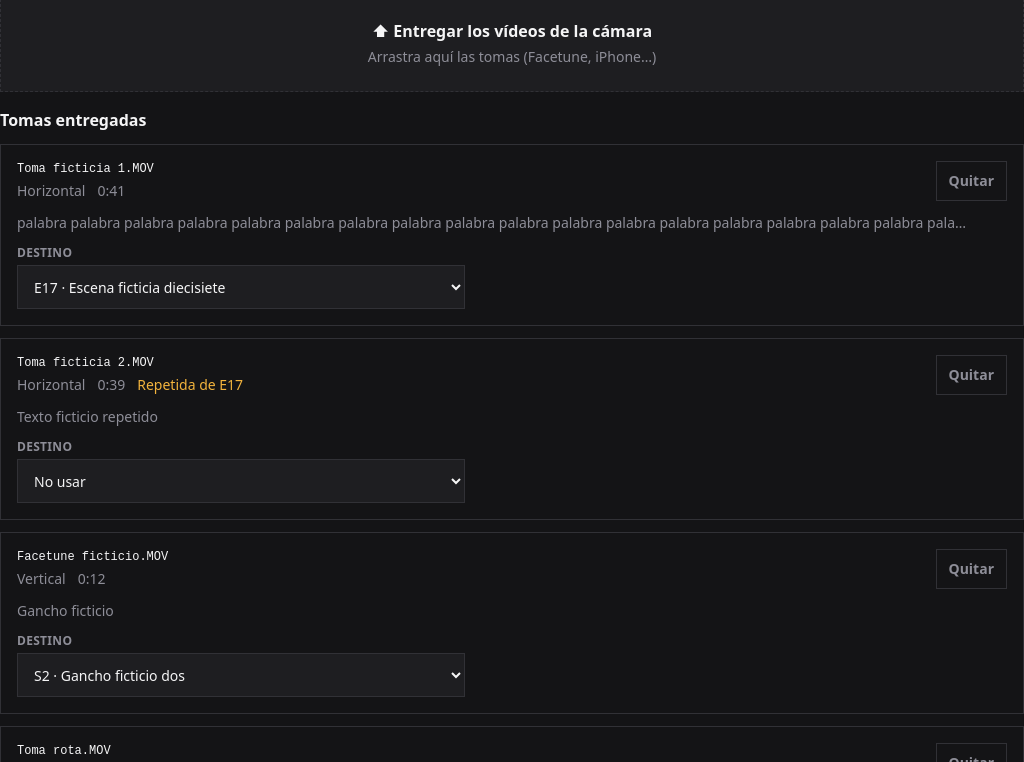
Test: EntregaTomas › coloca las tomas analizadas con su destino y avisa al terminar
Select "E08 · Escena ficticia ocho" in the dropdown named "Destino de Toma ficticia 1.MOV". click: (241, 287)
box: 17,265 -> 465,309
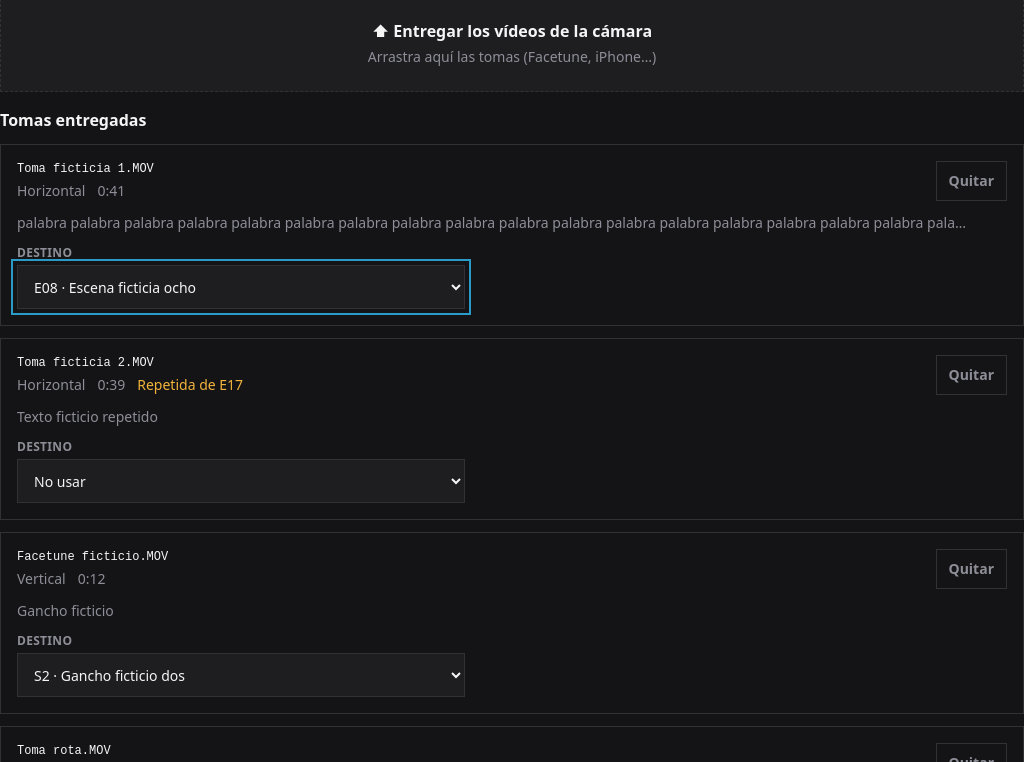
Select "No usar" in the dropdown labelled "Destino" below "Facetune ficticio.MOV". click: (241, 675)
box: 17,653 -> 465,697
(page scrolled)
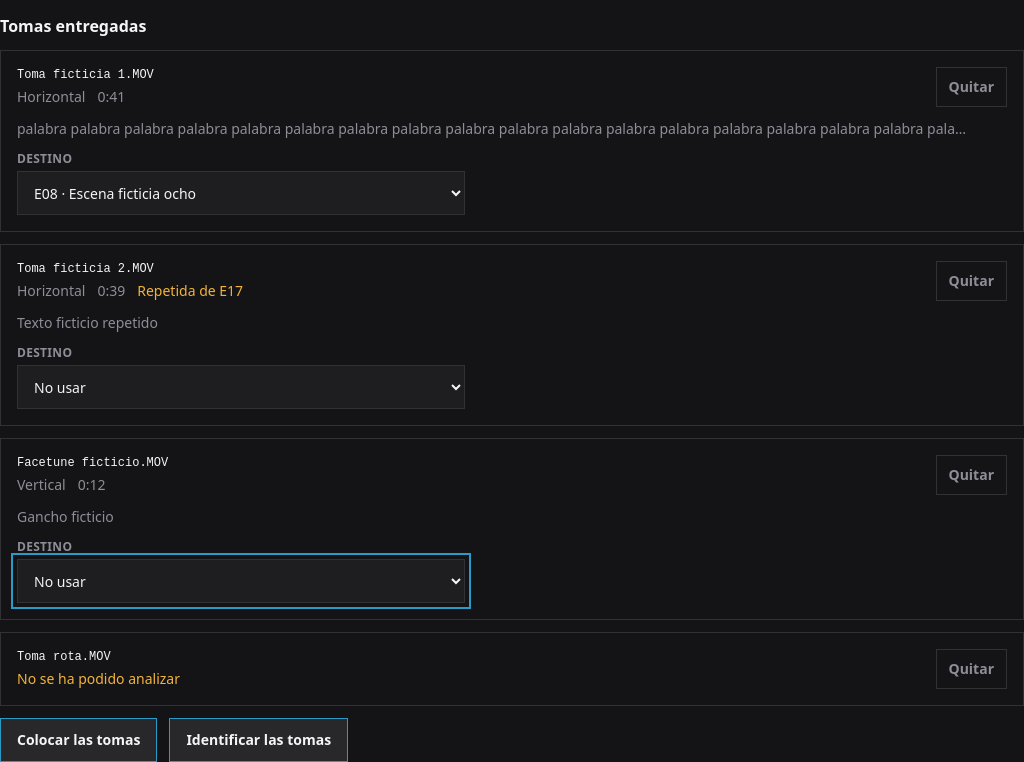
Click the button "Colocar las tomas". click: (79, 740)
box: 0,718 -> 157,761
(page scrolled)
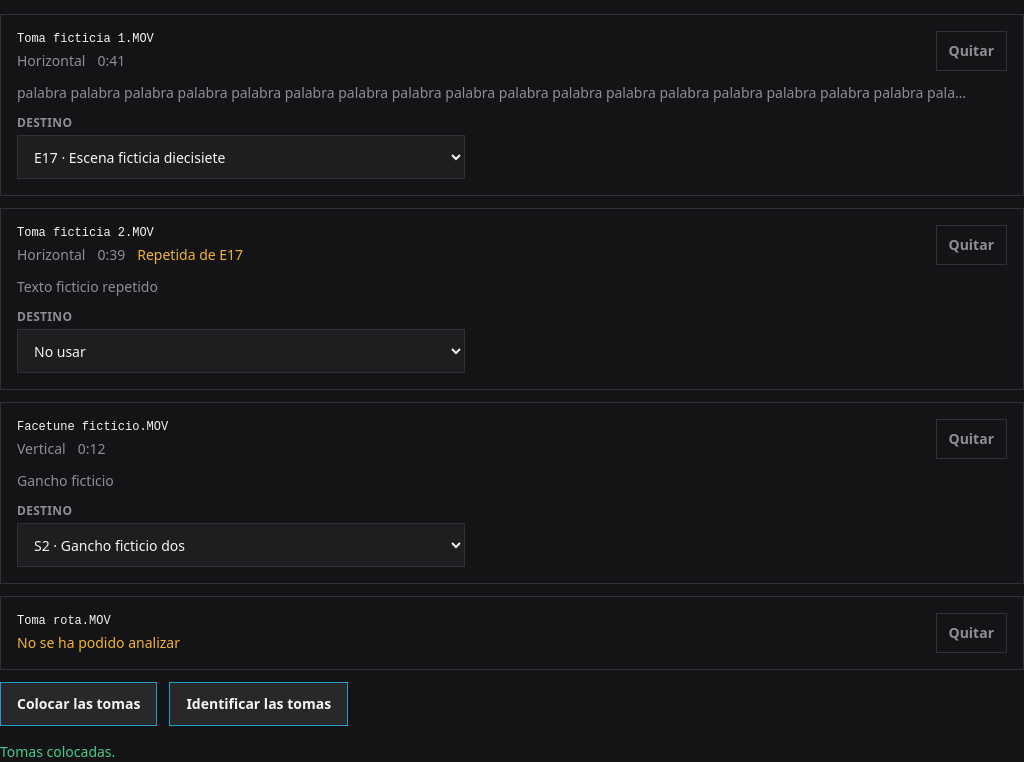
expect the text "Tomas colocadas." is shown: met, box 0,742 -> 115,761
